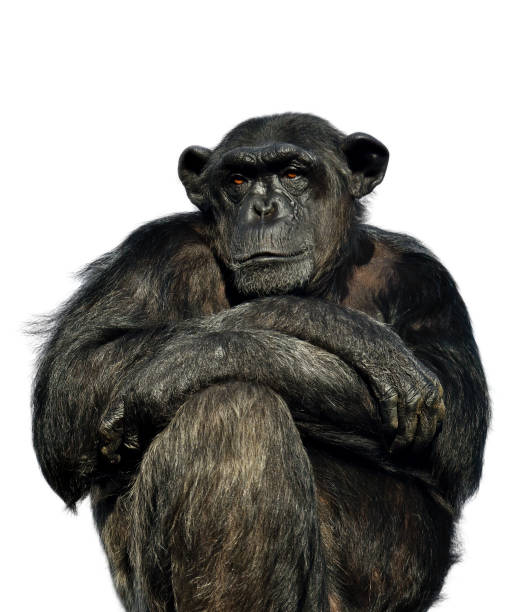chimpanzee: (150, 103, 411, 324)
